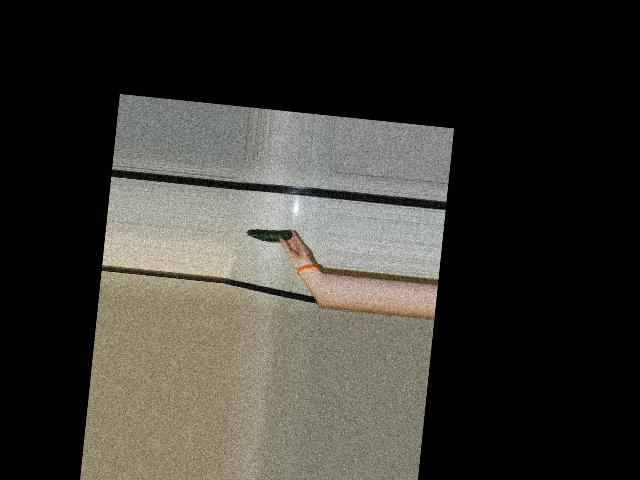cucumber: (245, 225, 293, 243)
